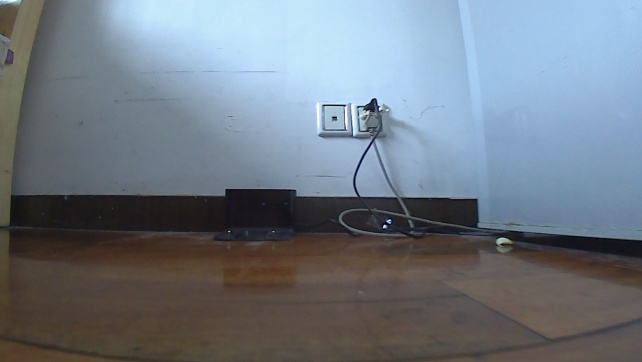charger: (211, 186, 298, 244)
wire: (301, 99, 511, 241)
